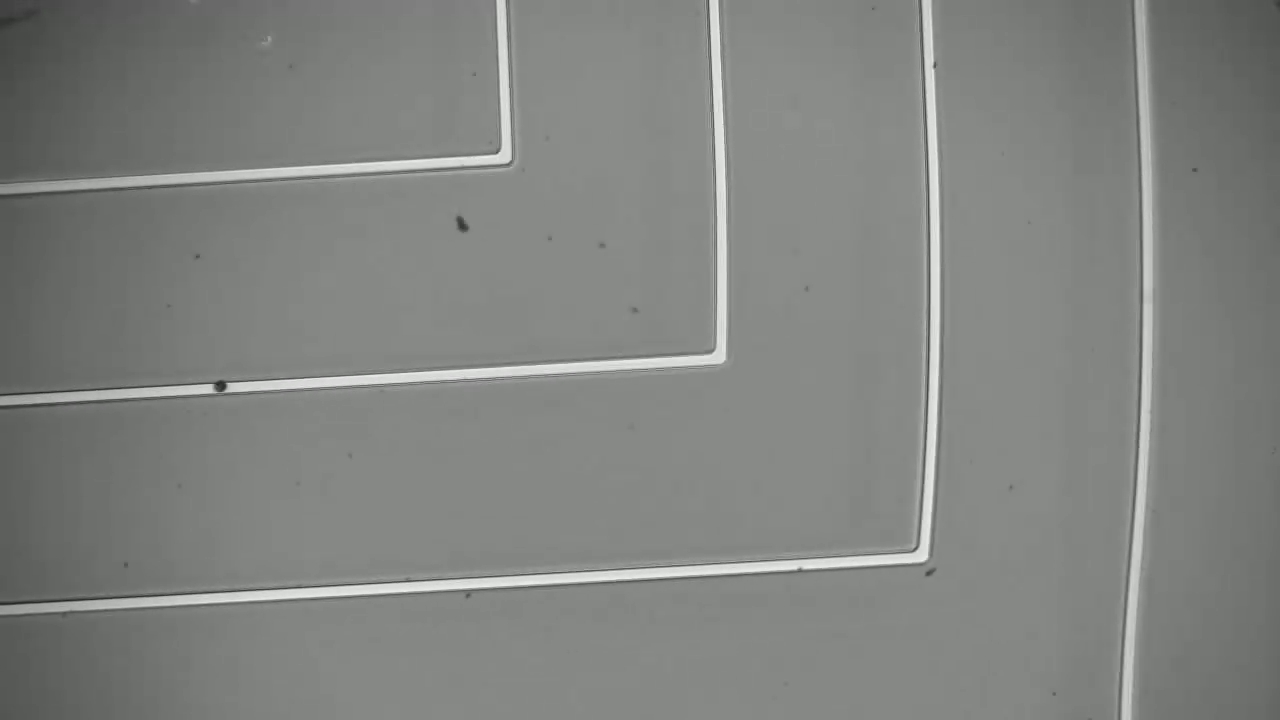stains_enbedded: (212, 374, 237, 402)
